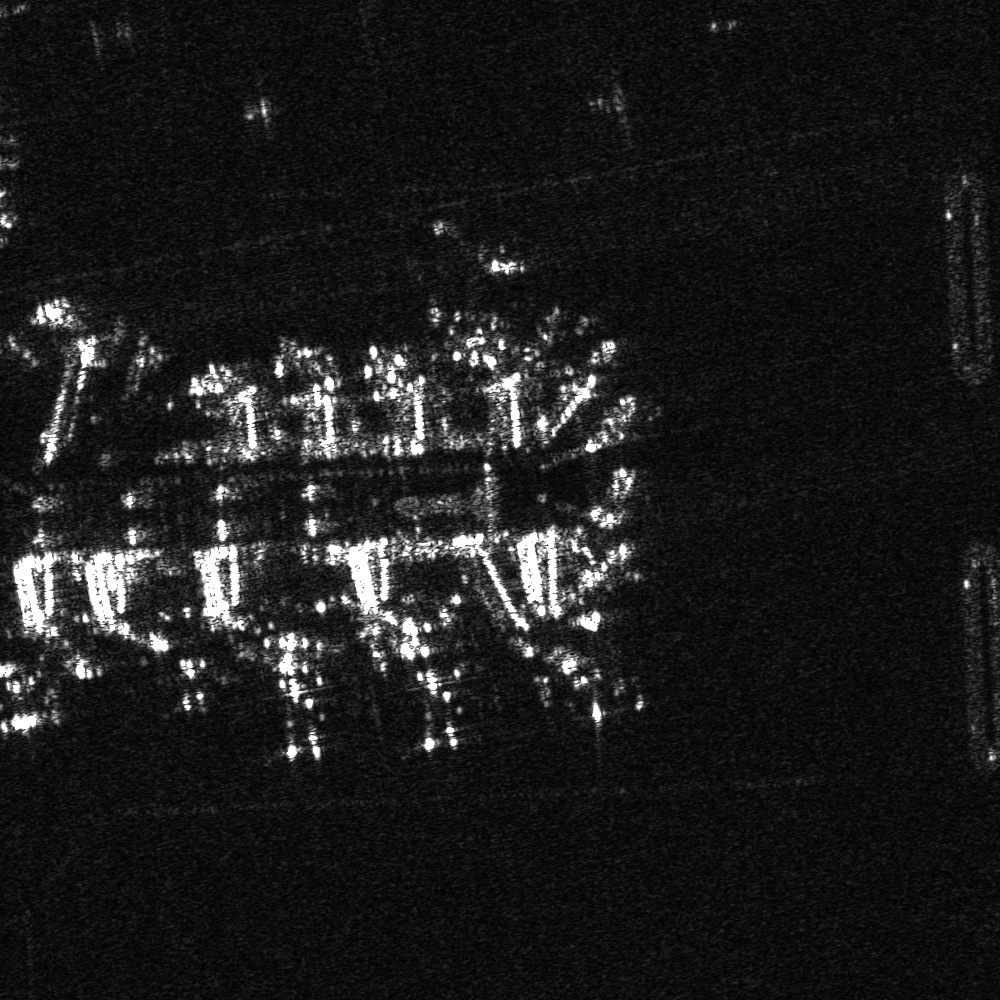A220: (399, 219, 542, 314)
Boeing737: (530, 638, 618, 735)
Boeing787: (238, 674, 344, 764)
other: (388, 662, 488, 759)
